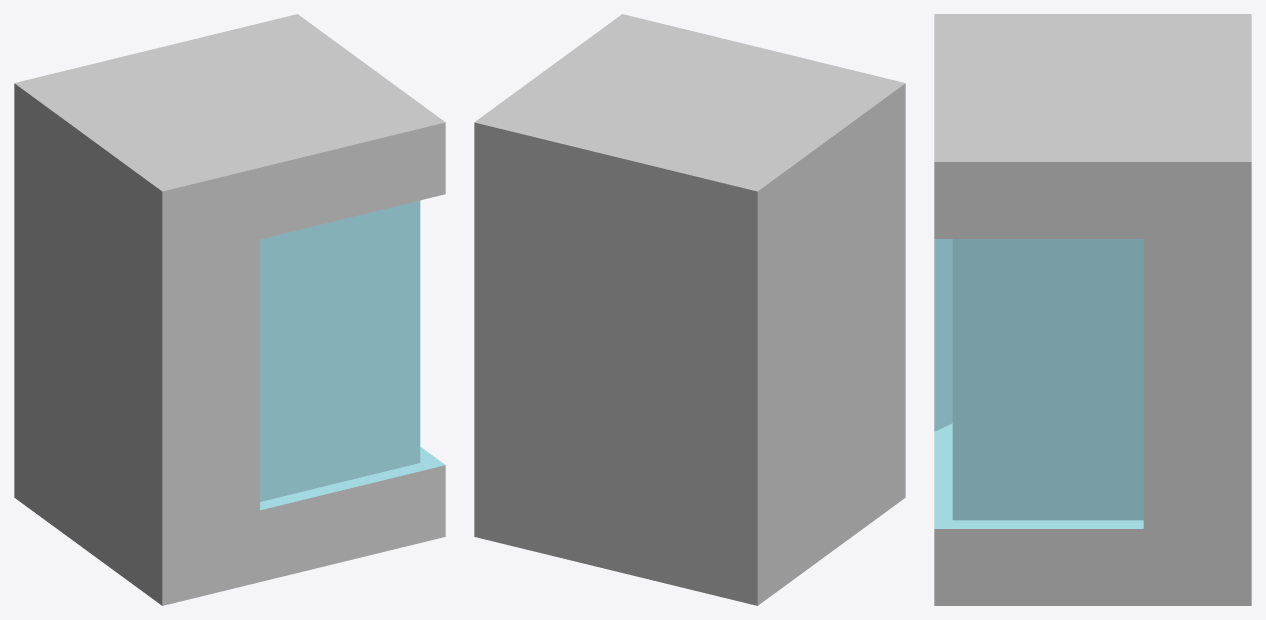
Rendered from toybox.fbx.
The picture shows the model from 3 angles, left to right: view 1: azimuth 30°, elevation 25°; view 2: azimuth 150°, elevation 25°; view 3: azimuth 270°, elevation 25°; orthographic projection. The views are drawn at different scales.
Parts seen in each view (by area): view 1: Box021; view 2: Box021; view 3: Box021.
Boxes of the visible parts, <box> form: Box021: <box>14,14,445,605</box>; Box021: <box>474,14,905,605</box>; Box021: <box>934,14,1251,605</box>.
Bounding box in the file's own units: 34.51 × 48.22 × 31.24.
